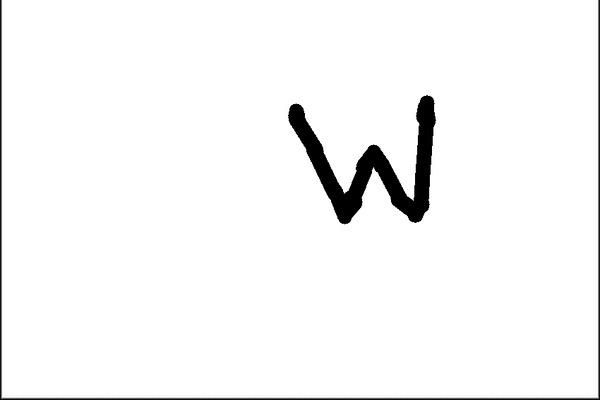w: (272, 78, 460, 249)
